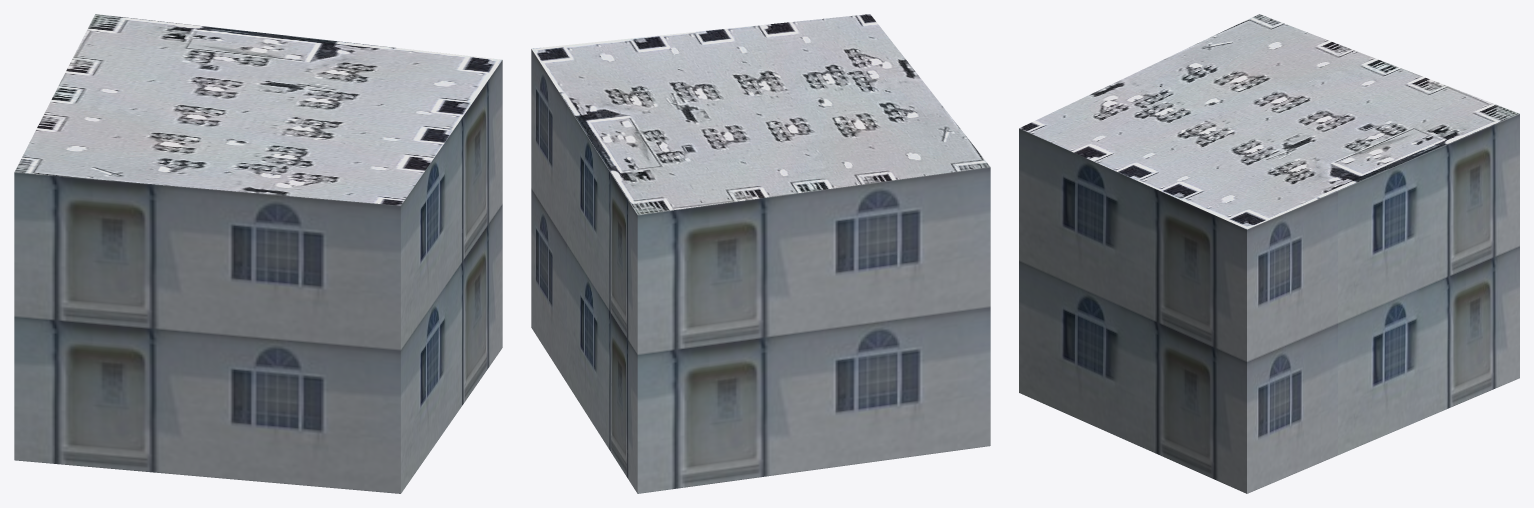
File: ResTex__2792.fbx
3 renders of one model, left to right at view 1: azimuth 30°, elevation 25°; view 2: azimuth 150°, elevation 25°; view 3: azimuth 270°, elevation 25°, orthographic. The views are drawn at different scales.
Parts seen in each view (by area): view 1: CityEngineMaterial_17_m, CityEngineMaterial_4_m; view 2: CityEngineMaterial_17_m, CityEngineMaterial_4_m; view 3: CityEngineMaterial_17_m, CityEngineMaterial_4_m.
Part boxes in pixels (box(x1,y1,x2,y2)): CityEngineMaterial_17_m: box(14, 60, 502, 493); CityEngineMaterial_4_m: box(14, 14, 502, 205); CityEngineMaterial_17_m: box(531, 49, 990, 493); CityEngineMaterial_4_m: box(531, 14, 990, 214); CityEngineMaterial_17_m: box(1019, 114, 1519, 493); CityEngineMaterial_4_m: box(1019, 14, 1519, 229).
Size of the model in its own units: 10.49 by 6 by 10.3.
2 materials, 2 textured.
